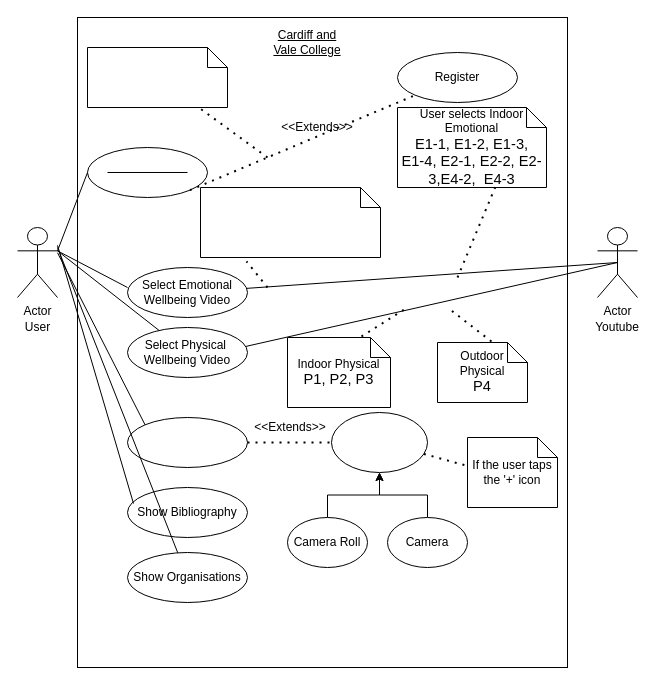
The diagram is 657 pixels wide and 685 high, and some of its shapes have lost their labels. Each missing label, with the box of its shape:
Add Photos: (330, 412, 428, 472)
Login Password: (86, 146, 208, 198)
Register User Username, password, first name, surname, DOB: (86, 46, 228, 108)
Select Photo Diary: (126, 416, 248, 468)
User selects Outdoor E2-4, E3-1,E3-2, E3-4, E3-5, E4-1,E4-4, E4-5: (200, 186, 380, 258)
